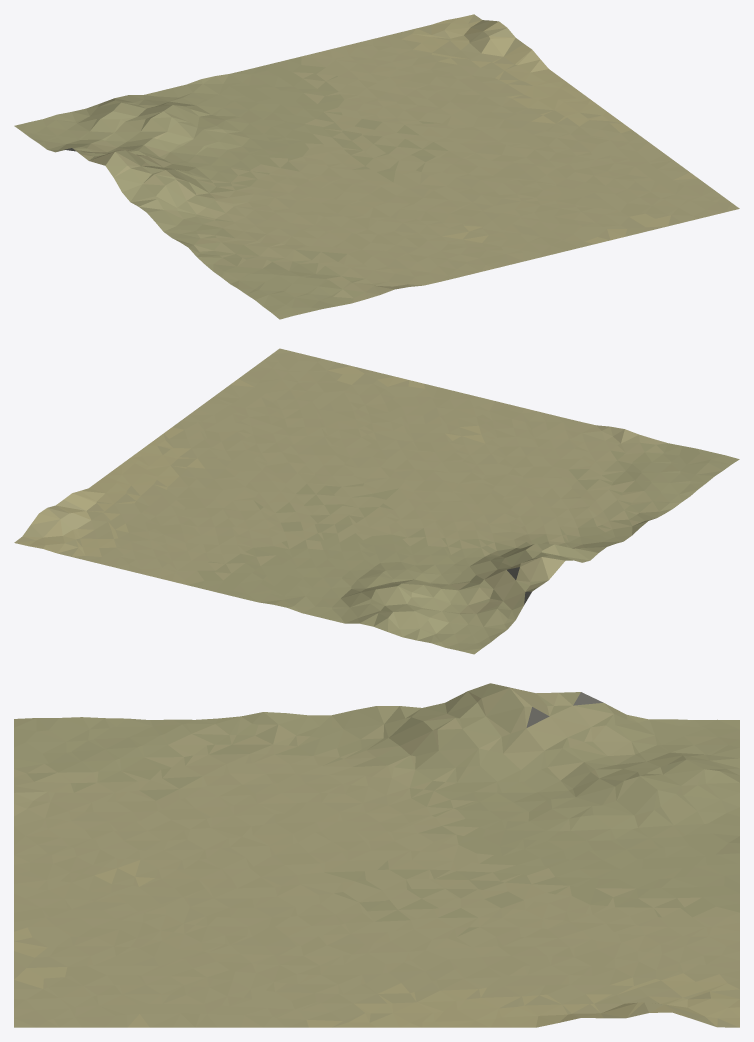
The model's file is Ground_3_-5.glb.
3 views of the same model, one above another, from view 1: azimuth 30°, elevation 25°; view 2: azimuth 150°, elevation 25°; view 3: azimuth 270°, elevation 25° (orthographic). The views are drawn at different scales.
Visible parts, largest first — view 1: Ground_3_-5; view 2: Ground_3_-5; view 3: Ground_3_-5.
Boxes of the visible parts, bbox=[...] form: Ground_3_-5: bbox=[14, 14, 739, 319]; Ground_3_-5: bbox=[14, 348, 739, 654]; Ground_3_-5: bbox=[14, 683, 739, 1027].
Size of the model in its own units: 768 by 51.9 by 768.
